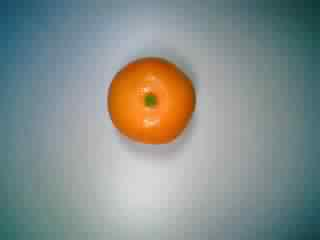orange: (106, 50, 202, 146)
